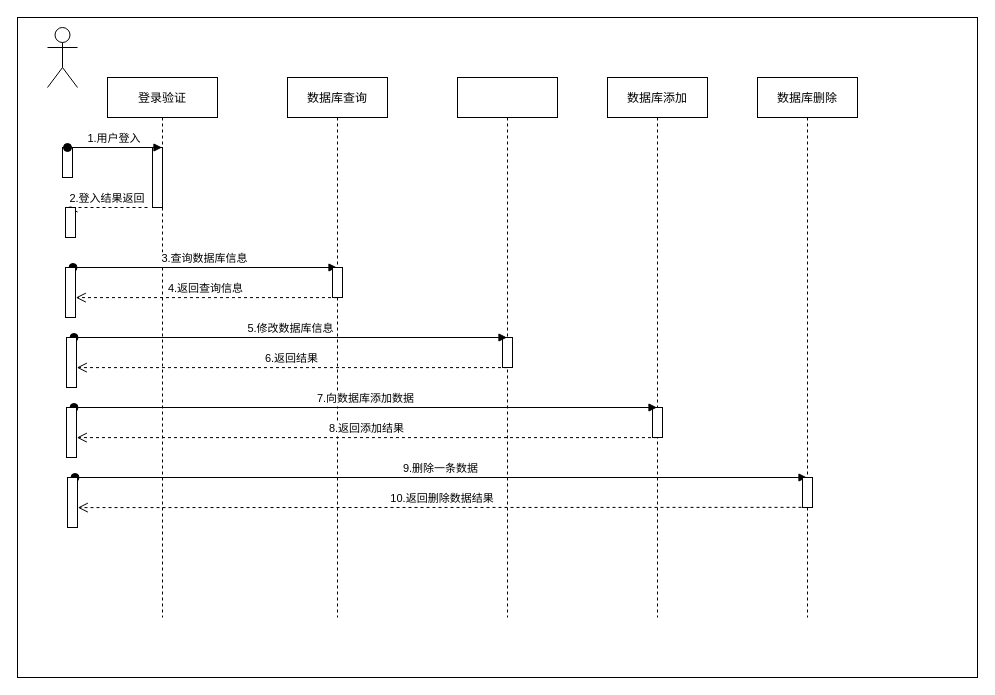
Image size: 995x695. Some labels were removed from this diagram. The shapes that lost their labels are listed below. From the top down, each one's centre as x and y in pixels, then its label:
At point 62,57: "用户".
At point 507,347: "数据库修改".
